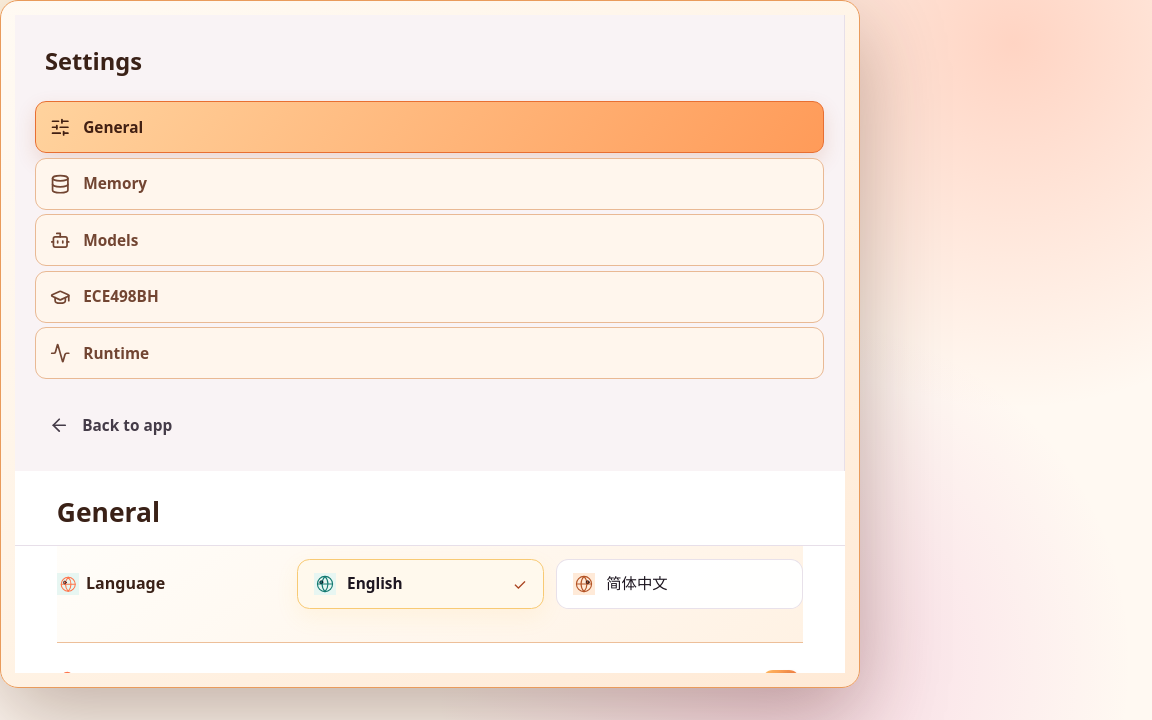
Test: Field settings update center › shows the actual Engine Pack conflict instead of hiding it in a tooltip
The width and height of the screenshot is (1152, 720).
What coordinates should you click on to do the following:
click the tab "Runtime"
I would click on:
 (116, 353)
Its box is top-left (35, 327), bottom-right (824, 379).
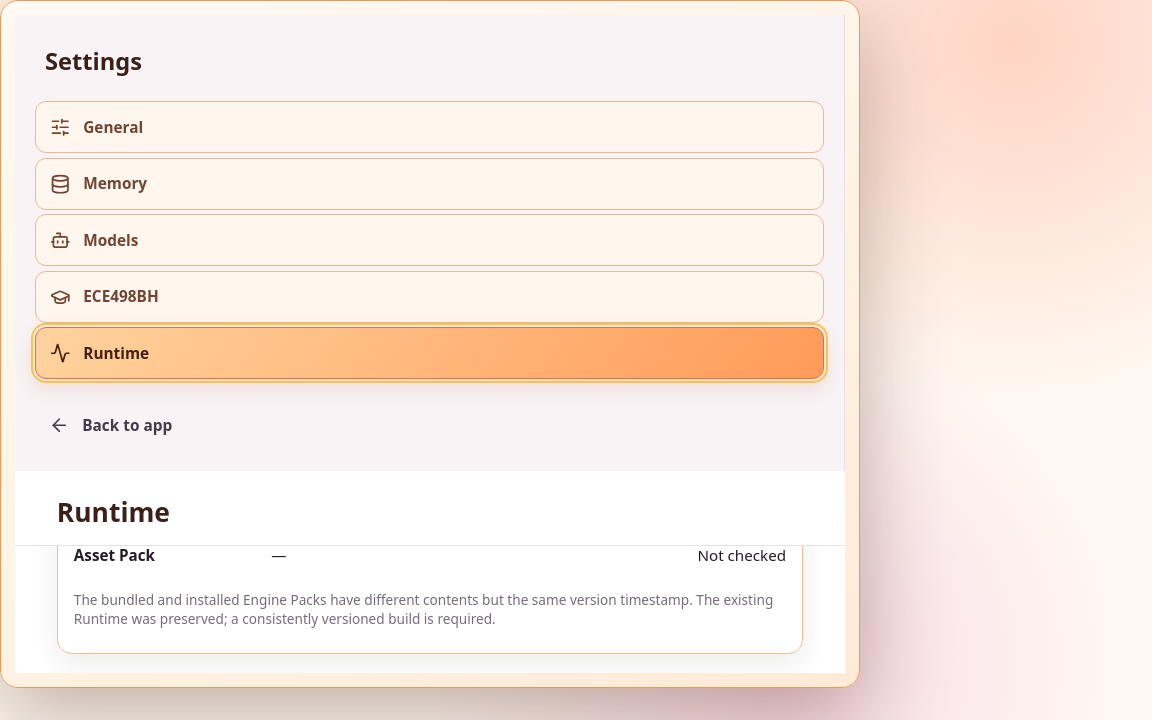
expect the message shows "existing Runtime was preserved": met, box top-left (74, 590), bottom-right (773, 628)
expect the message is shown: met, box top-left (74, 590), bottom-right (786, 628)
